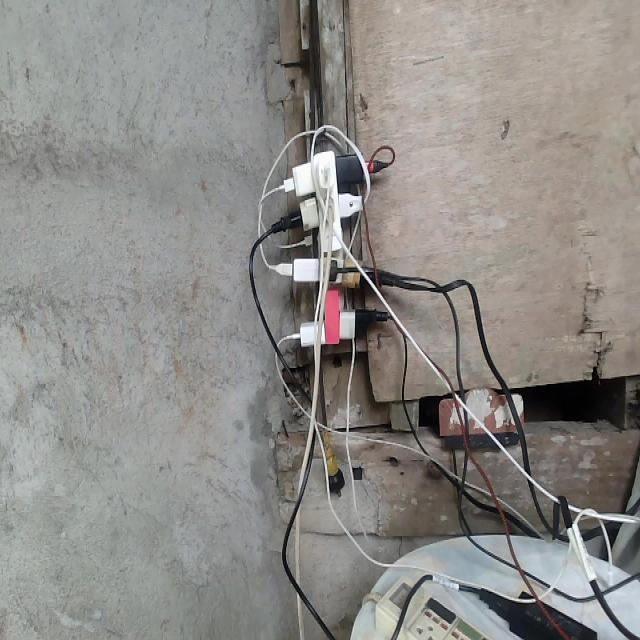-: (276, 142, 384, 346)
